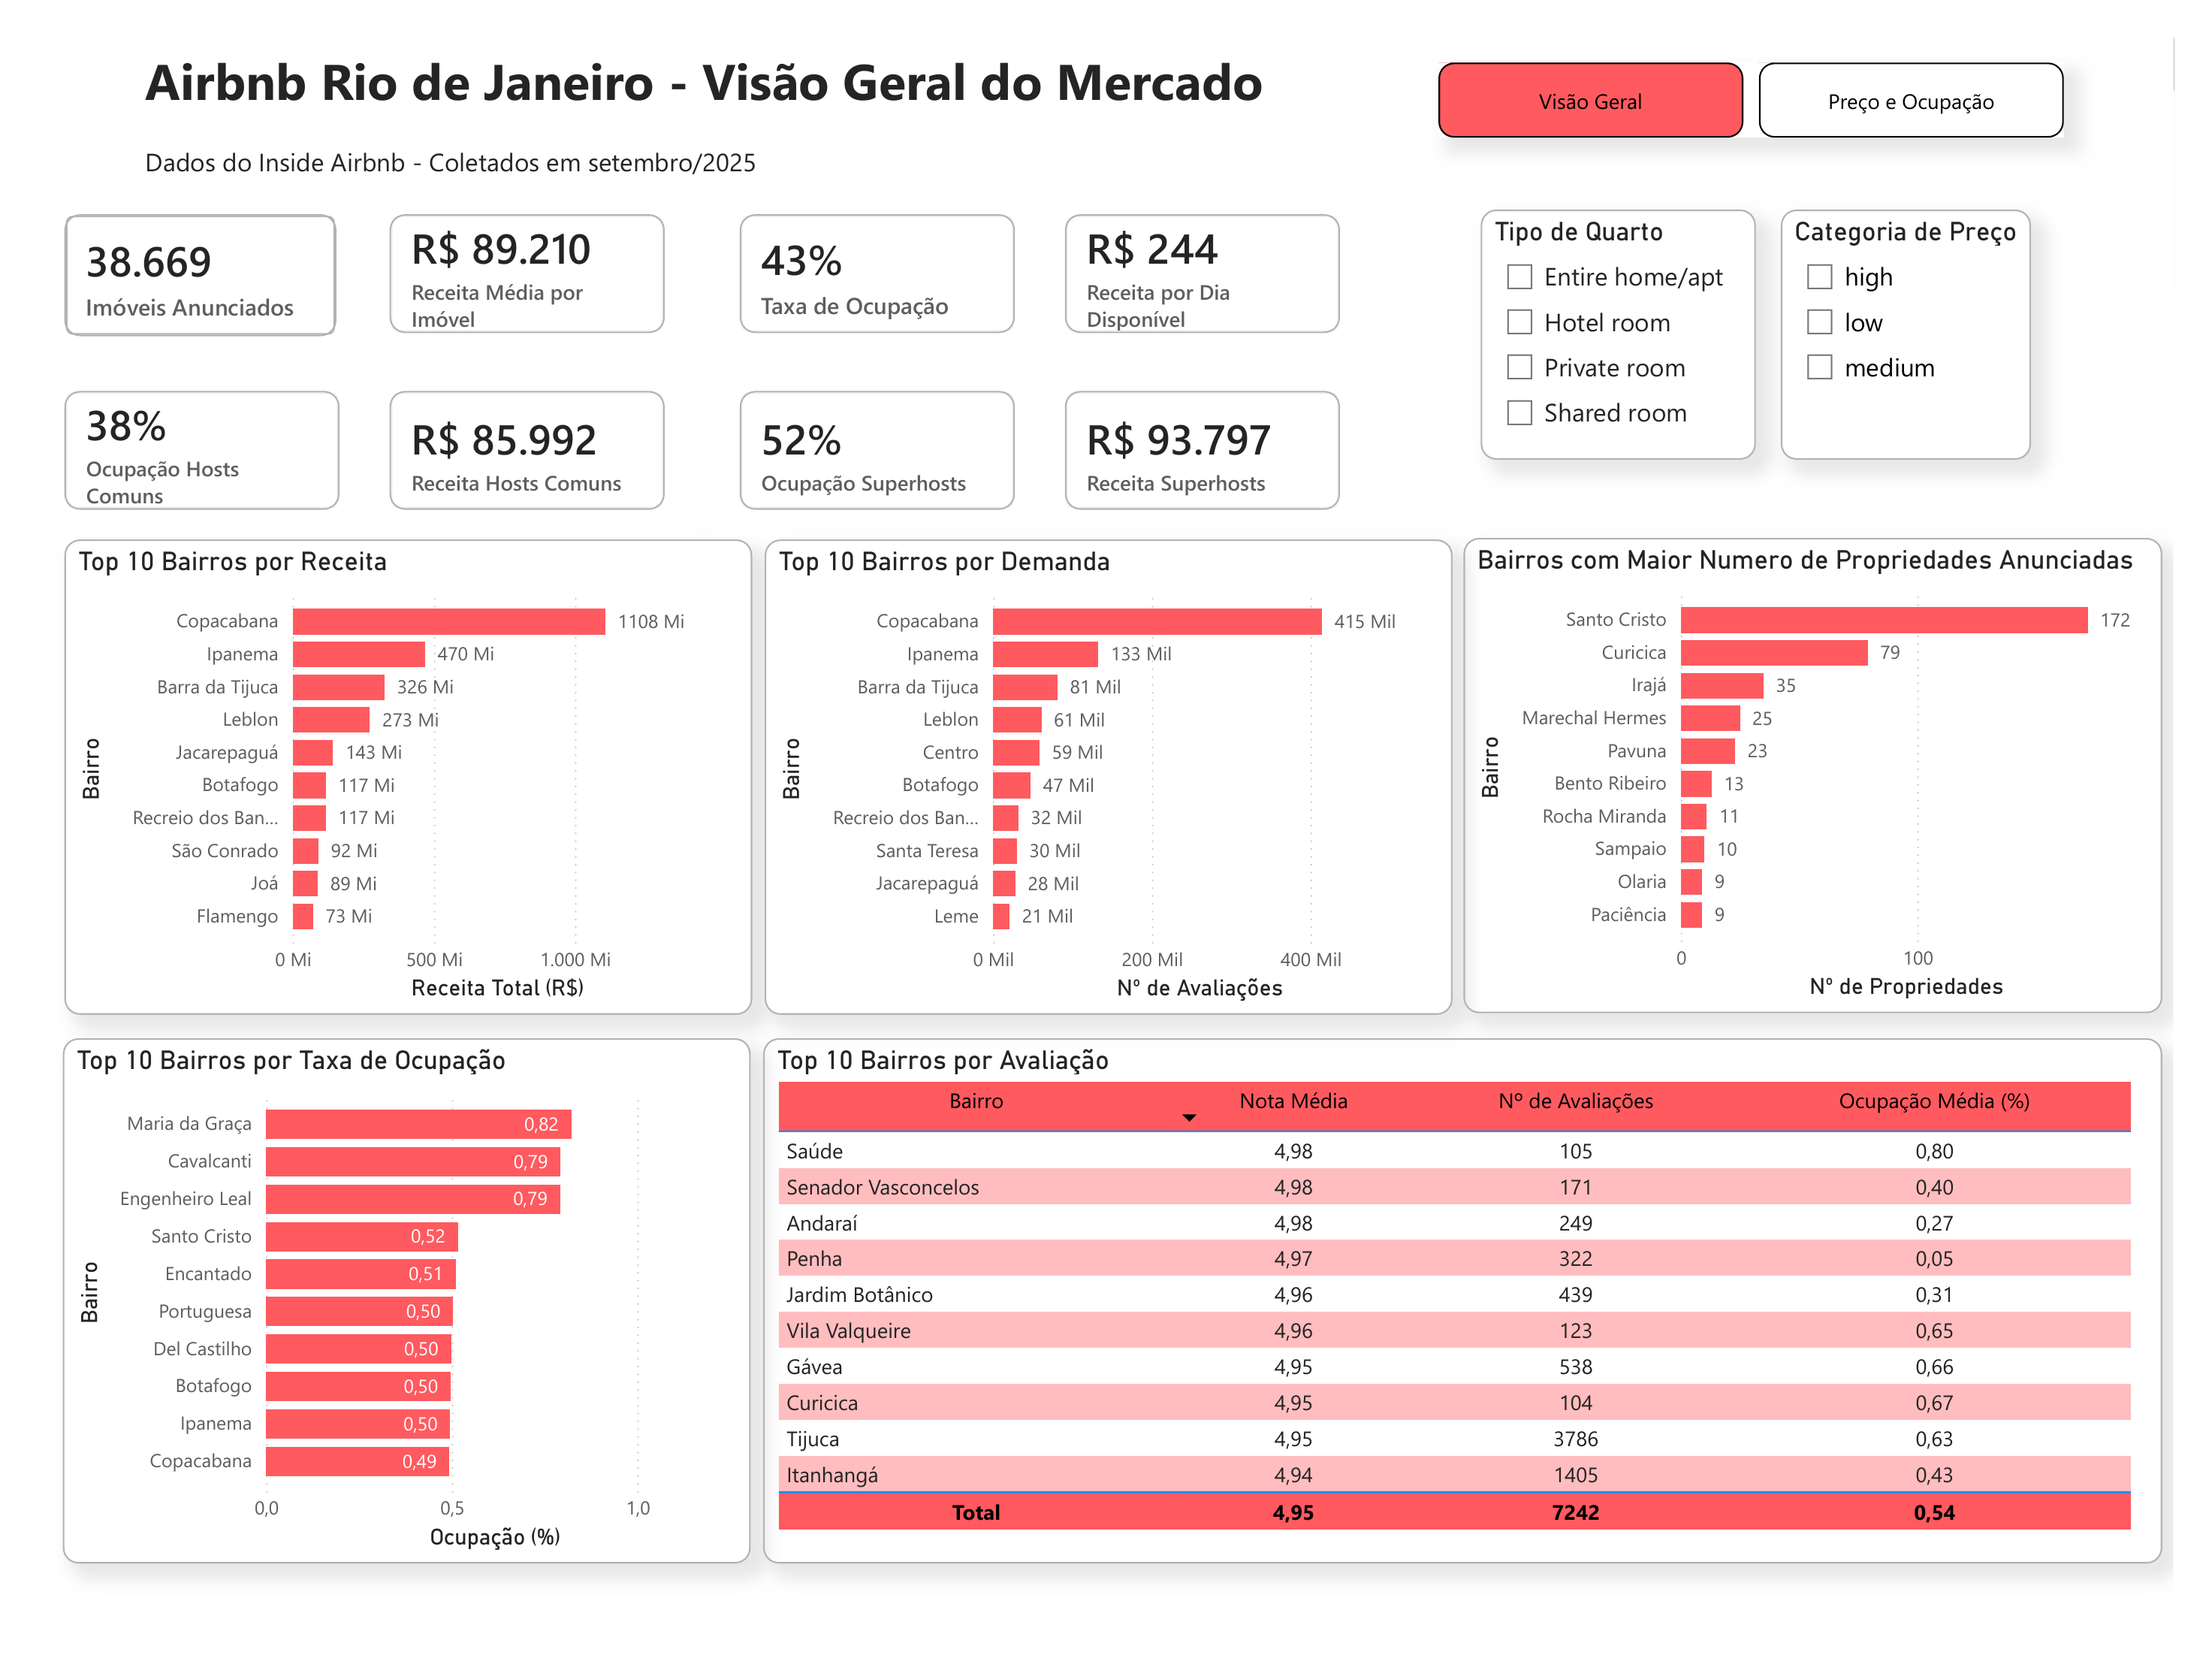

Layout of this report page (visuals, bound fields, positions):
{"tool":"powerbi","page":{"name":"Visão Geral","canvas":[1366,1010],"ordinal":0},"visuals":[{"type":"cardVisual","title":"Imóveis Anunciados","fields":{"Data":["CountNonNull(mart_listings_full.listing_id)"]},"box":[0,96,208,112],"z":0},{"type":"cardVisual","title":"Receita Média por Imóvel","fields":{"Data":["Avg(mart_listings_full.total_revenue)"]},"box":[208,96,210,110],"z":1000},{"type":"cardVisual","title":"Receita por Dia Disponível","fields":{"Data":["Avg(mart_listings_full.revpar)"]},"box":[640,96,210,110],"z":2000},{"type":"cardVisual","title":"Taxa de Ocupação","fields":{"Data":["Avg(mart_listings_full.occupancy_rate)"]},"box":[432,96,210,110],"z":3000},{"type":"clusteredBarChart","title":"Top 10 Bairros por Receita","fields":{"Category":["mart_listings_full.neighbourhood"],"Y":["Sum(mart_listings_full.total_revenue)"]},"box":[16.7,321.1,440,304],"z":4000},{"type":"tableEx","title":"Top 10 Bairros por Avaliação","fields":{"Values":["mart_listings_full.neighbourhood","Avg(mart_listings_full.review_scores_rating)","Sum(mart_listings_full.number_of_reviews)","Avg(mart_listings_full.occupancy_rate)"]},"box":[464,640,895,336],"z":5000},{"type":"slicer","title":"Tipo de Quarto","fields":{"Values":["mart_listings_full.room_type"]},"box":[922.7,110.2,176,160],"z":6000},{"type":"slicer","title":"Categoria de Preço","fields":{"Values":["mart_listings_full.price_category"]},"box":[1114.8,110.2,160,160],"z":7000},{"type":"clusteredBarChart","title":"Top 10 Bairros por Taxa de Ocupação","fields":{"Category":["mart_listings_full.neighbourhood"],"Y":["Avg(mart_listings_full.occupancy_rate)"]},"box":[16,640,440,336],"z":8000},{"type":"cardVisual","fields":{"Data":["mart_listings_full.Ocupação Hosts Comuns"]},"box":[0,208.7,210,110],"z":9000},{"type":"cardVisual","fields":{"Data":["mart_listings_full.Ocupação Superhosts"]},"box":[432,208.7,210,110],"z":10000},{"type":"cardVisual","fields":{"Data":["mart_listings_full.Receita Hosts Comuns"]},"box":[208,208.7,210,110],"z":11000},{"type":"cardVisual","fields":{"Data":["mart_listings_full.Receita Superhosts"]},"box":[640,208.7,210,110],"z":12000},{"type":"clusteredBarChart","title":"Bairros com Maior Numero de Propriedades Anunciadas","fields":{"Category":["mart_listings_full.neighbourhood"],"Y":["CountNonNull(mart_listings_full.listing_id)"]},"box":[912,320,447,304],"z":13000},{"type":"clusteredBarChart","title":"Top 10 Bairros por Demanda","fields":{"Category":["mart_listings_full.neighbourhood"],"Y":["Sum(mart_listings_full.number_of_reviews)"]},"box":[464.7,321.1,440,304],"z":14000},{"type":"textbox","box":[64,0,736,64],"z":15000},{"type":"textbox","box":[64,64,416,32],"z":16000},{"type":"pageNavigator","box":[896,16,400,48],"z":17000}]}

Visuals, with their boxes on the page's 1366x1010 design canvas (x1, y1, x2, y2). These are canvas units, not pixel positions in the 2212x1655 screenshot, which may show the page scaled, cropped or inside an application window:
"Imóveis Anunciados" cardVisual: 0:96:208:208
"Receita Média por Imóvel" cardVisual: 208:96:418:206
"Receita por Dia Disponível" cardVisual: 640:96:850:206
"Taxa de Ocupação" cardVisual: 432:96:642:206
"Top 10 Bairros por Receita" clusteredBarChart: 17:321:457:625
"Top 10 Bairros por Avaliação" tableEx: 464:640:1359:976
"Tipo de Quarto" slicer: 923:110:1099:270
"Categoria de Preço" slicer: 1115:110:1275:270
"Top 10 Bairros por Taxa de Ocupação" clusteredBarChart: 16:640:456:976
cardVisual - mart_listings_full.Ocupação Hosts Comuns: 0:209:210:319
cardVisual - mart_listings_full.Ocupação Superhosts: 432:209:642:319
cardVisual - mart_listings_full.Receita Hosts Comuns: 208:209:418:319
cardVisual - mart_listings_full.Receita Superhosts: 640:209:850:319
"Bairros com Maior Numero de Propriedades Anunciadas" clusteredBarChart: 912:320:1359:624
"Top 10 Bairros por Demanda" clusteredBarChart: 465:321:905:625
textbox: 64:0:800:64
textbox: 64:64:480:96
pageNavigator: 896:16:1296:64
